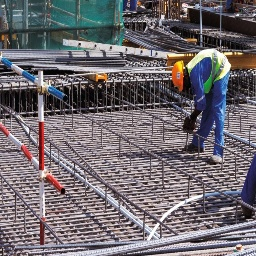helmet: (173, 59, 184, 93)
person: (173, 50, 234, 165)
vest: (187, 50, 233, 97)
